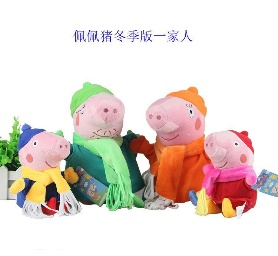Peppa: (198, 130, 258, 217)
